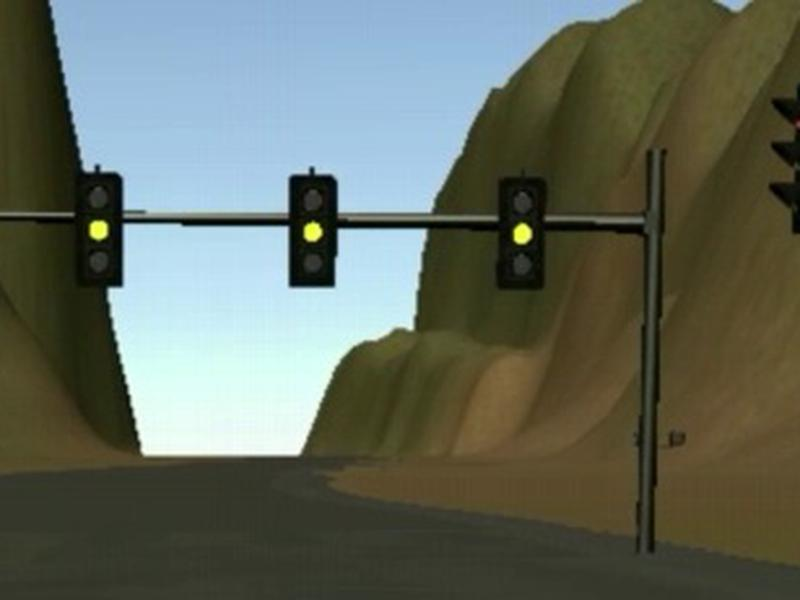Yellow: (495, 176, 546, 290), (74, 171, 123, 287), (289, 174, 338, 289)
